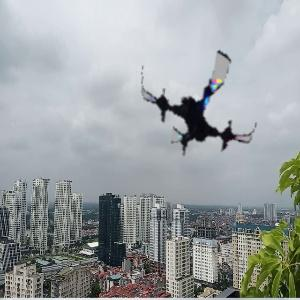drone: (135, 37, 266, 168)
